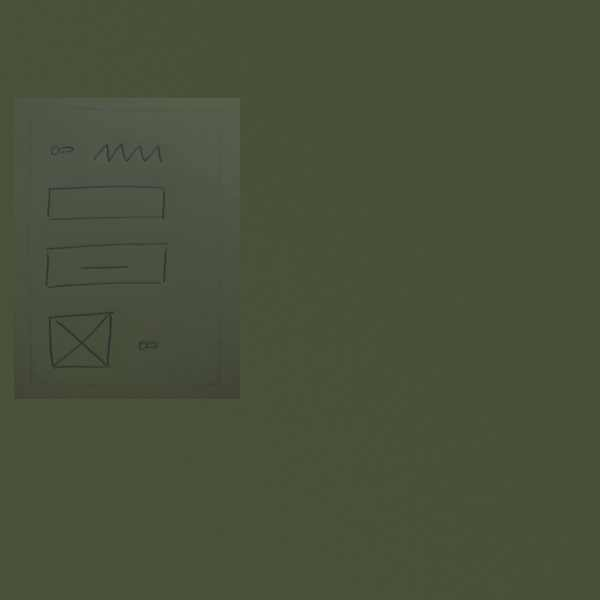button: (37, 239, 177, 291)
image: (42, 308, 119, 376)
switch: (46, 138, 77, 159), (134, 334, 162, 354)
text: (89, 136, 167, 168)
text_input: (43, 182, 171, 224)
